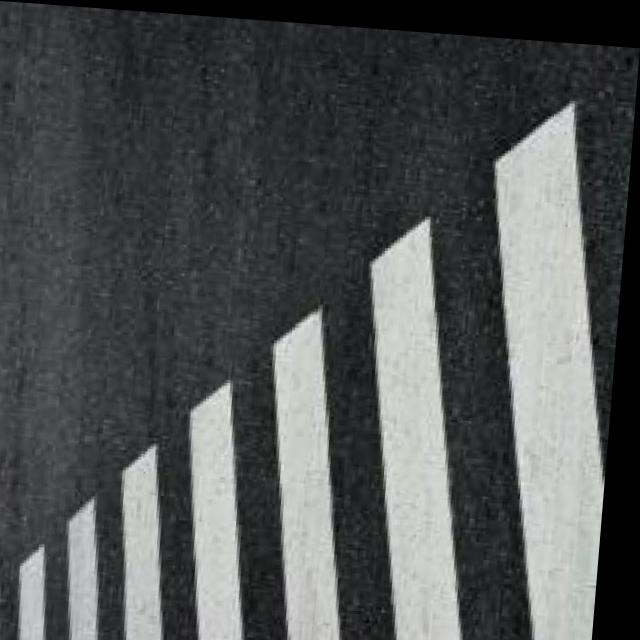zebra: (0, 31, 635, 640)
